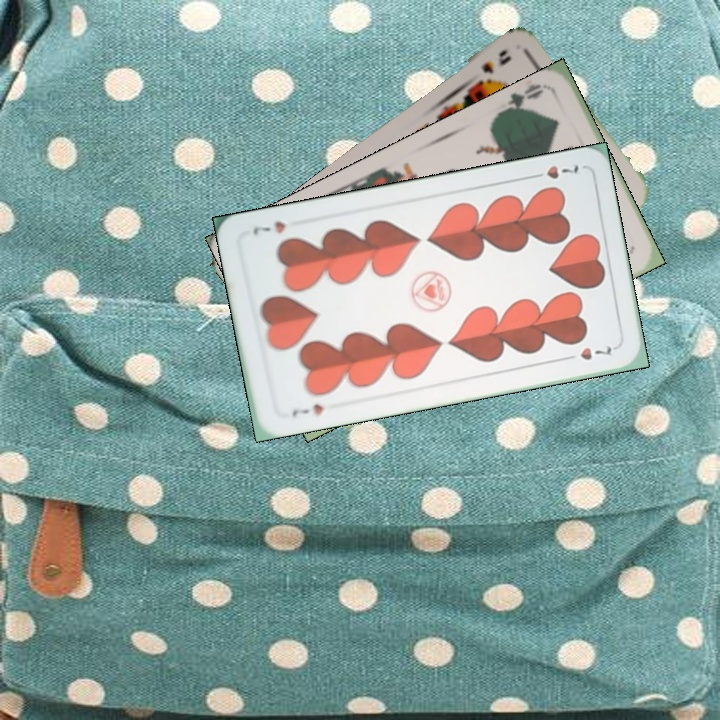GO: (495, 79, 548, 116)
H7: (525, 160, 581, 182), (288, 399, 326, 419)
S9: (470, 45, 514, 90)
